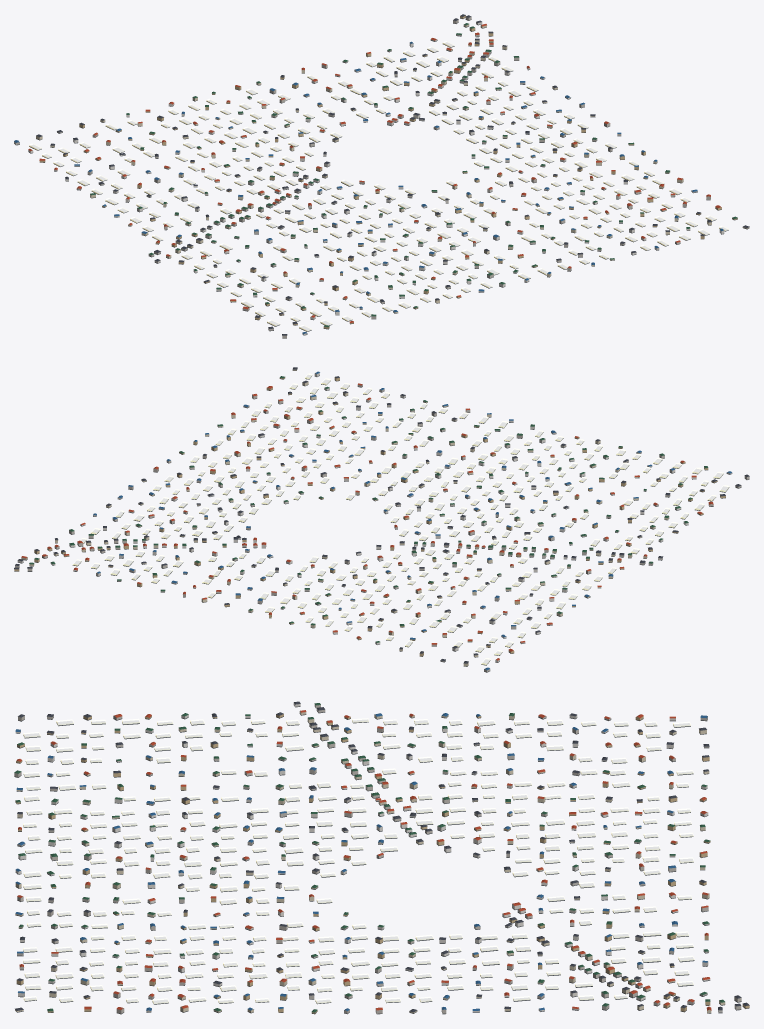
The model's file is buildings_T_E07_N05.glb.
3 renders of one model, top to bottom at view 1: azimuth 30°, elevation 25°; view 2: azimuth 150°, elevation 25°; view 3: azimuth 270°, elevation 25°, orthographic. The views are drawn at different scales.
Visible parts, largest first — view 1: T_E07_N05_roofs_agri_greenhouse_arch, T_E07_N05_slope_seating_foundations, T_E07_N05_walls_wall_modern_warm_white, T_E07_N05_walls_wall_pastel_sand_gray, T_E07_N05_walls_wall_french_ochre_villa, T_E07_N05_walls_wall_dalat_cream_stucco, T_E07_N05_roofs_roof_slate_French_villa_hip, T_E07_N05_roofs_roof_pine_green_hip, T_E07_N05_roofs_roof_terracotta_gable, T_E07_N05_roofs_roof_highland_blue_gable; view 2: T_E07_N05_roofs_agri_greenhouse_arch, T_E07_N05_slope_seating_foundations, T_E07_N05_walls_wall_pastel_sand_gray, T_E07_N05_walls_wall_french_ochre_villa, T_E07_N05_walls_wall_modern_warm_white, T_E07_N05_walls_wall_dalat_cream_stucco, T_E07_N05_roofs_roof_slate_French_villa_hip, T_E07_N05_roofs_roof_pine_green_hip, T_E07_N05_roofs_roof_terracotta_gable, T_E07_N05_roofs_roof_highland_blue_gable; view 3: T_E07_N05_roofs_agri_greenhouse_arch, T_E07_N05_slope_seating_foundations, T_E07_N05_walls_wall_pastel_sand_gray, T_E07_N05_walls_wall_modern_warm_white, T_E07_N05_walls_wall_french_ochre_villa, T_E07_N05_walls_wall_dalat_cream_stucco, T_E07_N05_roofs_roof_slate_French_villa_hip, T_E07_N05_roofs_roof_terracotta_gable, T_E07_N05_roofs_roof_pine_green_hip, T_E07_N05_roofs_roof_highland_blue_gable.
Boxes of the visible parts, x1,y1,x2,y2 form: T_E07_N05_roofs_agri_greenhouse_arch: (29,41,728,331); T_E07_N05_slope_seating_foundations: (14,17,749,338); T_E07_N05_walls_wall_modern_warm_white: (28,22,724,334); T_E07_N05_walls_wall_pastel_sand_gray: (14,16,710,338); T_E07_N05_walls_wall_french_ochre_villa: (39,15,737,328); T_E07_N05_walls_wall_dalat_cream_stucco: (36,24,749,313); T_E07_N05_roofs_roof_slate_French_villa_hip: (36,14,749,335); T_E07_N05_roofs_roof_pine_green_hip: (90,23,737,327); T_E07_N05_roofs_roof_terracotta_gable: (28,24,721,322); T_E07_N05_roofs_roof_highland_blue_gable: (14,41,723,334); T_E07_N05_roofs_agri_greenhouse_arch: (72,373,729,664); T_E07_N05_slope_seating_foundations: (14,370,749,672); T_E07_N05_walls_wall_pastel_sand_gray: (15,384,749,672); T_E07_N05_walls_wall_french_ochre_villa: (14,377,725,656); T_E07_N05_walls_wall_modern_warm_white: (17,373,731,662); T_E07_N05_walls_wall_dalat_cream_stucco: (21,369,669,666); T_E07_N05_roofs_roof_slate_French_villa_hip: (14,367,749,663); T_E07_N05_roofs_roof_pine_green_hip: (29,376,708,642); T_E07_N05_roofs_roof_terracotta_gable: (21,383,713,660); T_E07_N05_roofs_roof_highland_blue_gable: (93,371,731,670); T_E07_N05_roofs_agri_greenhouse_arch: (23,718,694,1003); T_E07_N05_slope_seating_foundations: (14,705,749,1014); T_E07_N05_walls_wall_pastel_sand_gray: (14,704,741,1013); T_E07_N05_walls_wall_modern_warm_white: (15,703,722,1012); T_E07_N05_walls_wall_french_ochre_villa: (15,714,749,1013); T_E07_N05_walls_wall_dalat_cream_stucco: (15,711,725,1013); T_E07_N05_roofs_roof_slate_French_villa_hip: (15,701,749,1012); T_E07_N05_roofs_roof_terracotta_gable: (16,710,711,1010); T_E07_N05_roofs_roof_pine_green_hip: (14,703,724,1012); T_E07_N05_roofs_roof_highland_blue_gable: (15,713,707,1011).
Bounding box in the file's own units: 1832 × 29.82 × 1851.
